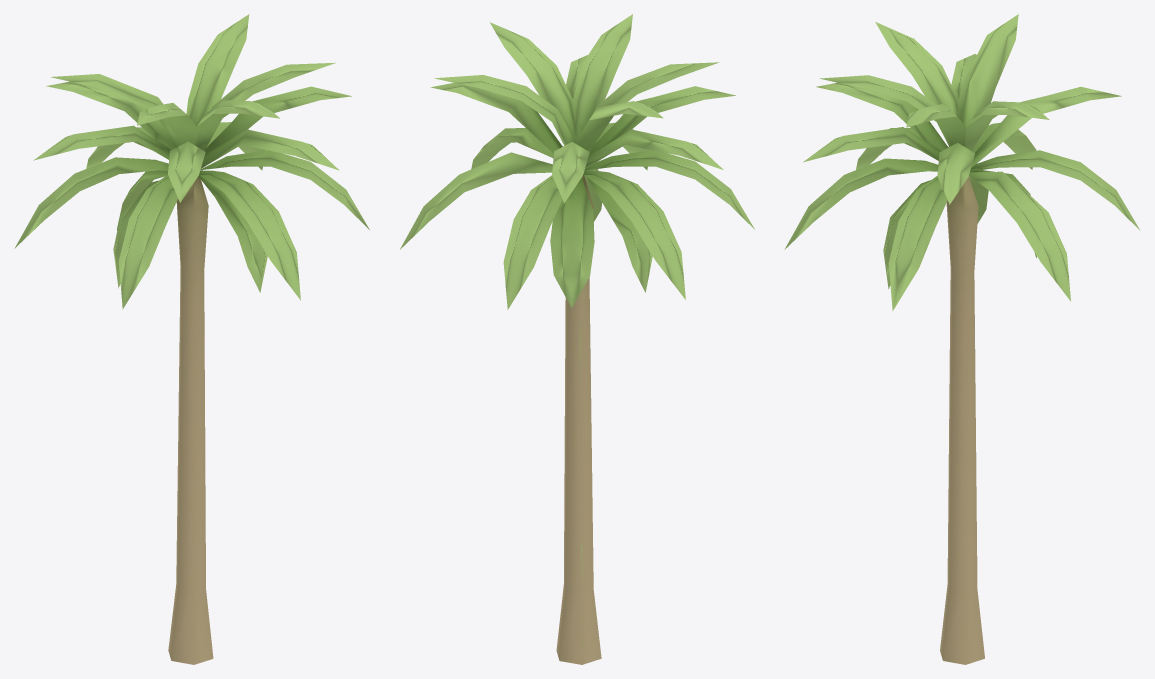
3 views of the same model, side by side, from view 1: azimuth 30°, elevation 25°; view 2: azimuth 150°, elevation 25°; view 3: azimuth 270°, elevation 25° (orthographic).
Visible parts, largest first — view 1: Palm1.001; view 2: Palm1.001; view 3: Palm1.001.
Boxes of the visible parts, x1,y1,x2,y2 form: Palm1.001: [14, 14, 369, 664]; Palm1.001: [400, 14, 754, 664]; Palm1.001: [784, 14, 1140, 664].
Size of the model in its own units: 10.96 by 19.97 by 11.02.
1 material, 1 textured.
